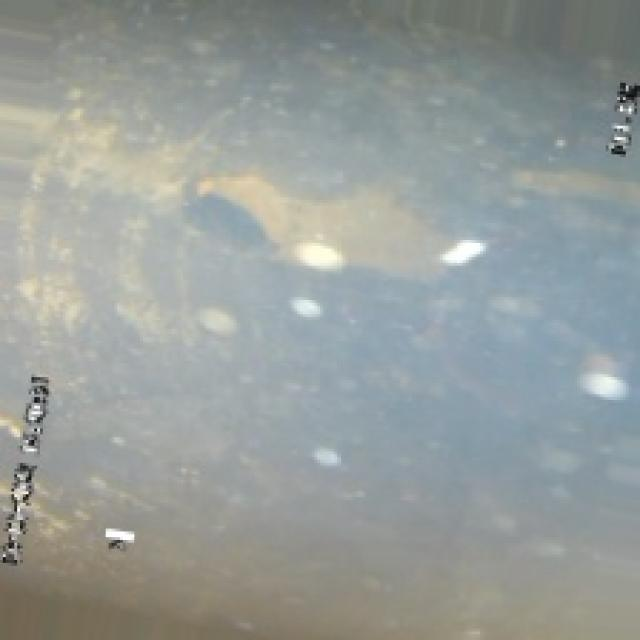pipe_surface_damage: (177, 163, 423, 283)
